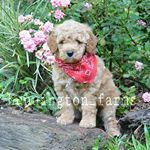puppy: (45, 18, 125, 140)
